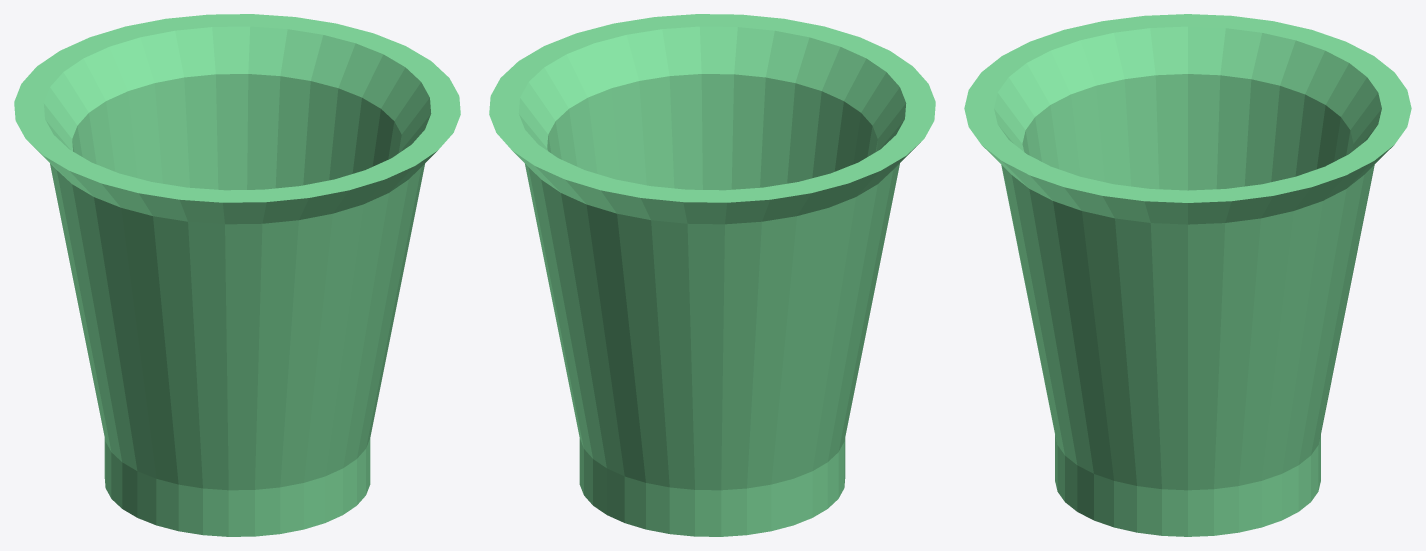
File: kopje.fbx
3 views of the same model, side by side, from view 1: azimuth 30°, elevation 25°; view 2: azimuth 150°, elevation 25°; view 3: azimuth 270°, elevation 25° (orthographic).
Parts seen in each view (by area): view 1: Cylinder.004; view 2: Cylinder.004; view 3: Cylinder.004.
Part boxes in pixels (box(x1,y1,x2,y2)): Cylinder.004: box(14, 14, 460, 536); Cylinder.004: box(489, 14, 935, 536); Cylinder.004: box(964, 14, 1411, 536).
Size of the model in its own units: 58.52 by 53.72 by 58.52.
